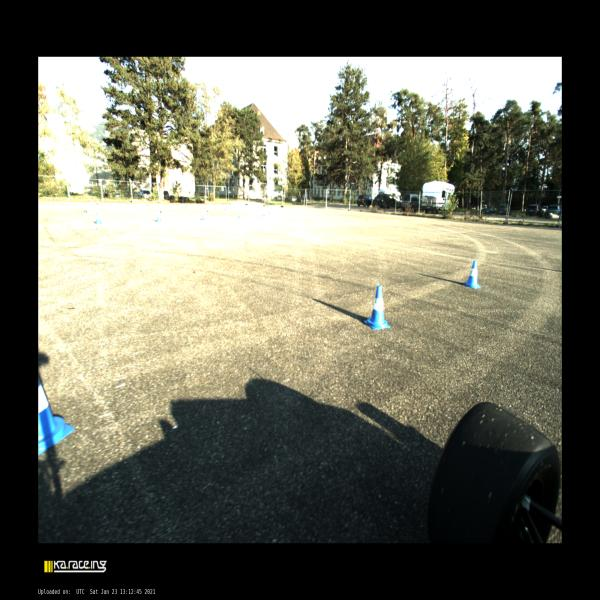blue_cone: (38, 374, 76, 457), (363, 284, 391, 330), (462, 260, 481, 289), (95, 212, 103, 224), (201, 213, 206, 220), (157, 214, 161, 222), (237, 211, 241, 218), (91, 200, 94, 206), (263, 211, 265, 216), (269, 209, 270, 214)
yellow_cone: (83, 208, 87, 218), (160, 209, 162, 216), (96, 201, 98, 207)
